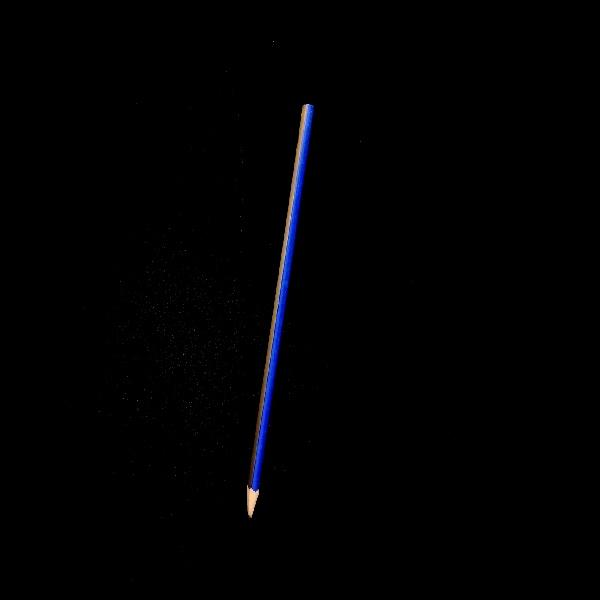pencil: (247, 104, 313, 517)
